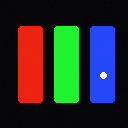0 point: (100, 72, 106, 78)
